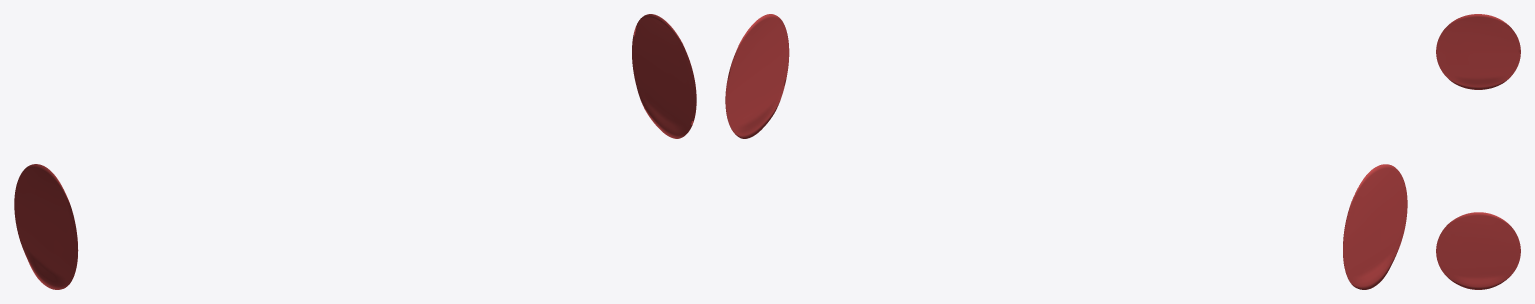
File: RN02_race_roundels_accent.glb
3 views of the same model, side by side, from view 1: azimuth 30°, elevation 25°; view 2: azimuth 150°, elevation 25°; view 3: azimuth 270°, elevation 25° (orthographic). The views are drawn at different scales.
Parts seen in each view (by area): view 1: MOD_NB_RN02_disc_R, MOD_NB_RN02_disc_L; view 2: MOD_NB_RN02_disc_R, MOD_NB_RN02_disc_L; view 3: MOD_NB_RN02_disc_L, MOD_NB_RN02_disc_R.
Part boxes in pixels (x1,y1,x2,y2): MOD_NB_RN02_disc_R: [14, 164, 78, 289]; MOD_NB_RN02_disc_L: [632, 14, 696, 138]; MOD_NB_RN02_disc_R: [1343, 164, 1407, 289]; MOD_NB_RN02_disc_L: [725, 14, 789, 138]; MOD_NB_RN02_disc_L: [1436, 212, 1520, 289]; MOD_NB_RN02_disc_R: [1436, 14, 1520, 89].
Bounding box in the file's own units: 1.67 × 0.3 × 0.3.
